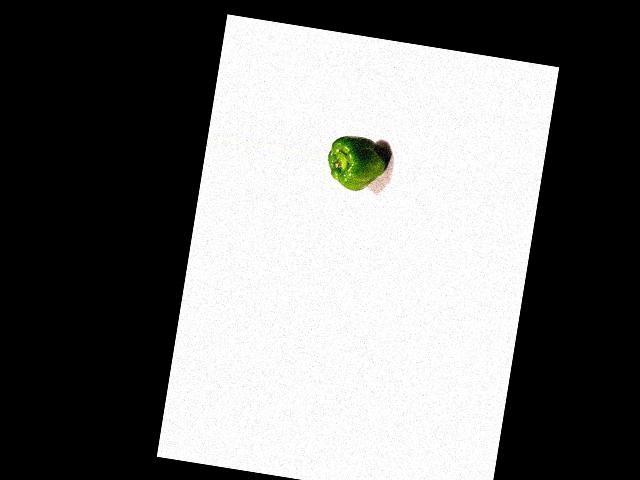bell_pepper: (323, 131, 393, 197)
